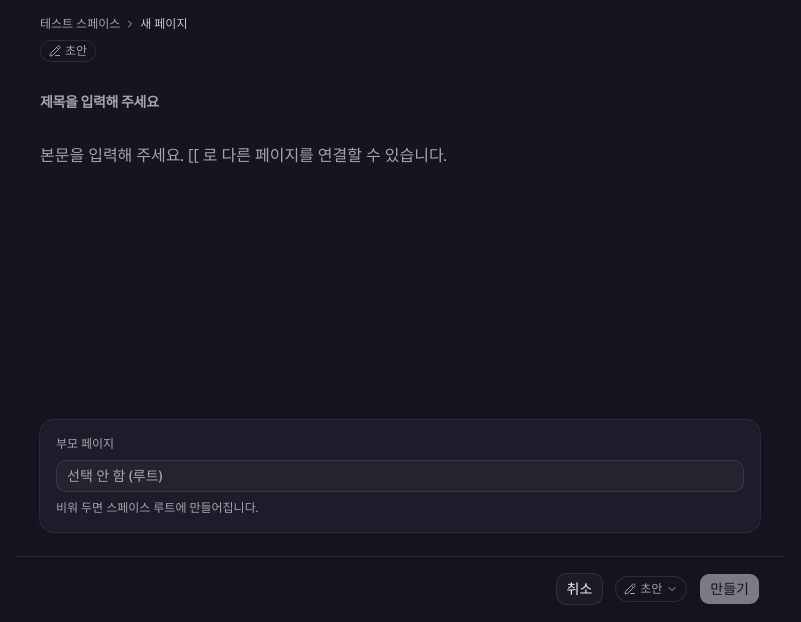
it: NewPageView — hero / breadcrumb › 제목 입력 즉시 breadcrumb 의 마지막 segment 가 갱신된다
Type "회의록" into the field with placeholder "제목을 입력해 주세요" at (400, 102), box [40,88,760,116]
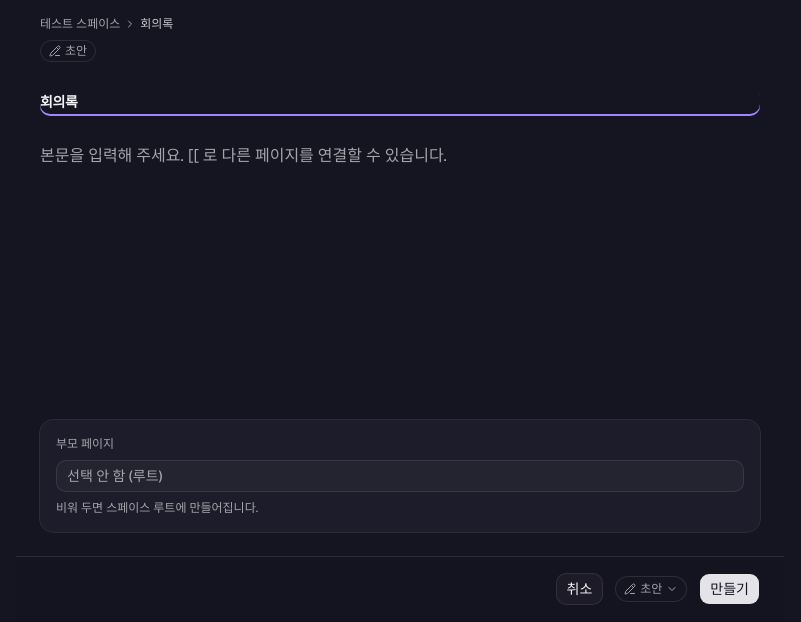
Expected: the navigation bar named "현재 페이지 경로" shows "회의록", [140,16,173,32]
